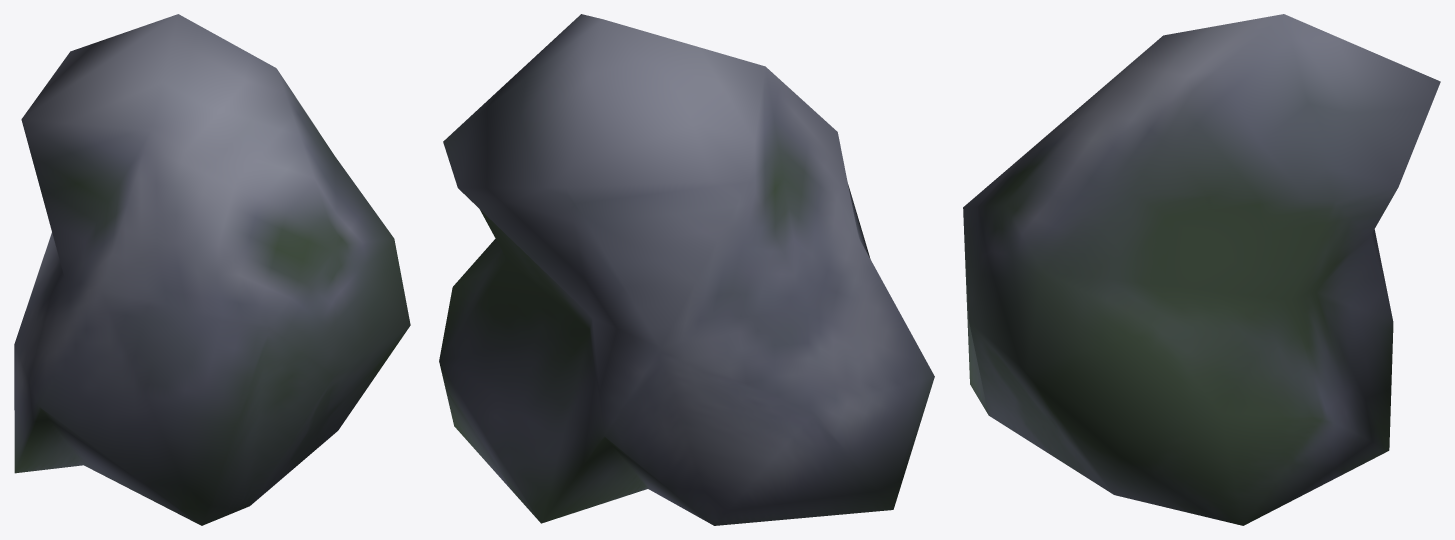
Rendered from rock2.fbx.
3 views of the same model, side by side, from view 1: azimuth 30°, elevation 25°; view 2: azimuth 150°, elevation 25°; view 3: azimuth 270°, elevation 25° (orthographic). The views are drawn at different scales.
Visible parts, largest first — view 1: rock.001; view 2: rock.001; view 3: rock.001.
Part boxes in pixels (<box>): rock.001: <box>14,14,410,525</box>; rock.001: <box>439,14,934,525</box>; rock.001: <box>963,14,1440,525</box>.
Size of the model in its own units: 0.271 by 0.2768 by 0.2761.
